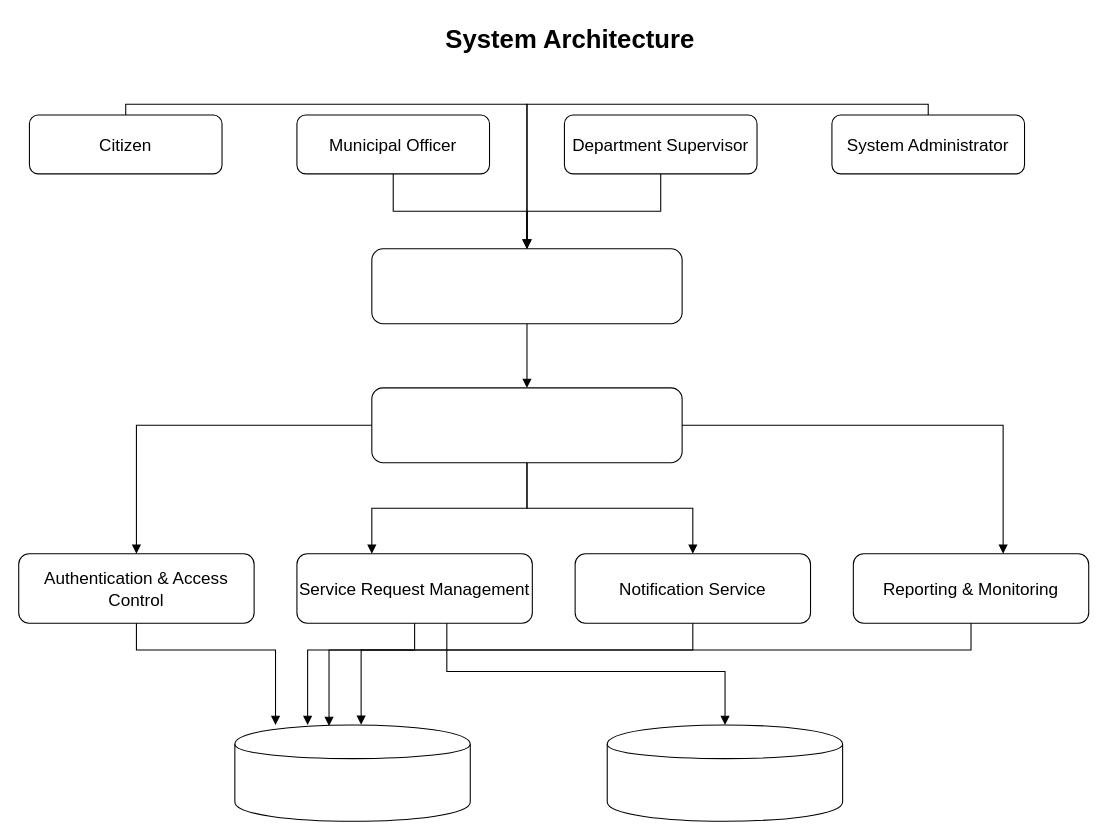
The diagram is 1107 pixels wide and 840 high, and some of its shapes have lost their labels. The shapes that lost their labels are listed below. From the top down, each one's box as (x1, y1, x2, y2) in pixels, then its label:
(371, 248, 682, 324): Web Application / Frontend
(371, 387, 682, 463): Backend / REST API
(234, 724, 470, 821): Database
(606, 724, 843, 821): Photo / File Storage
